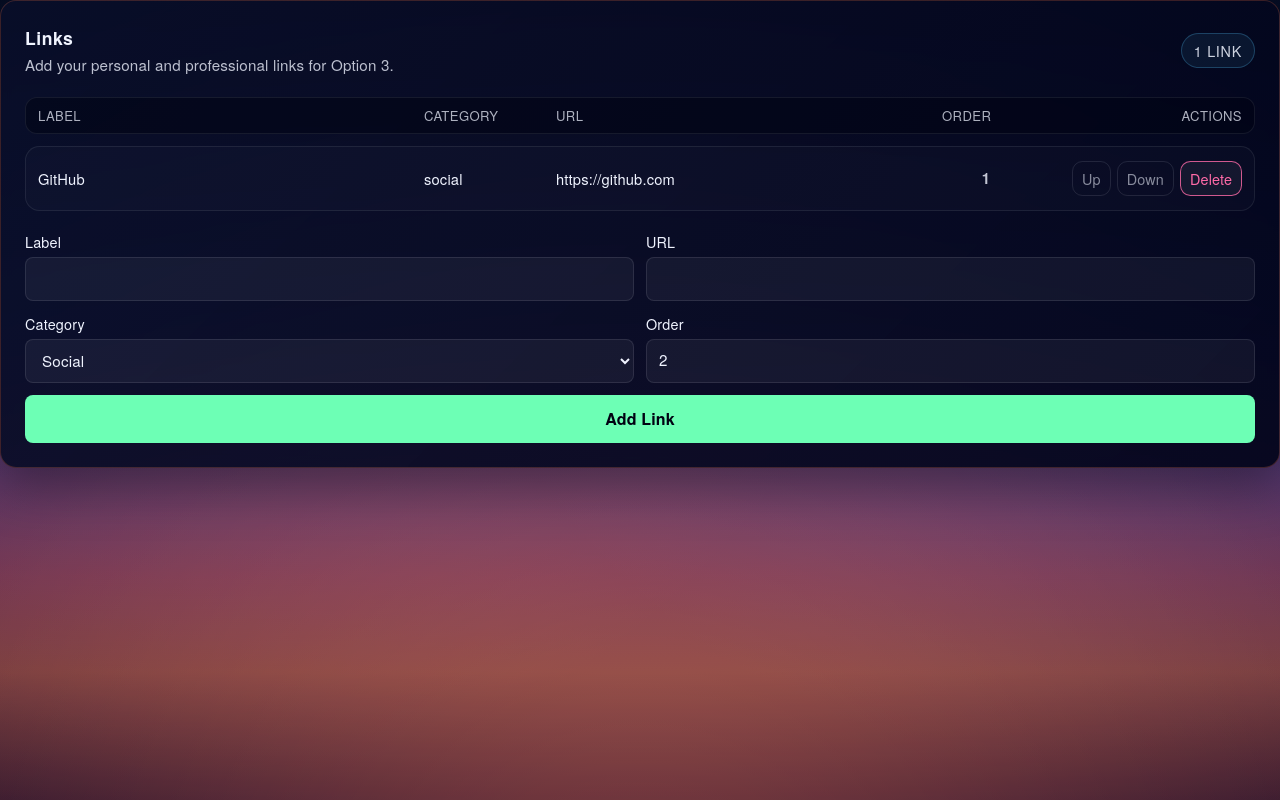
LinksManager › requires label and url
Click the button "Add Link": (640, 419) [25, 395, 1255, 443]
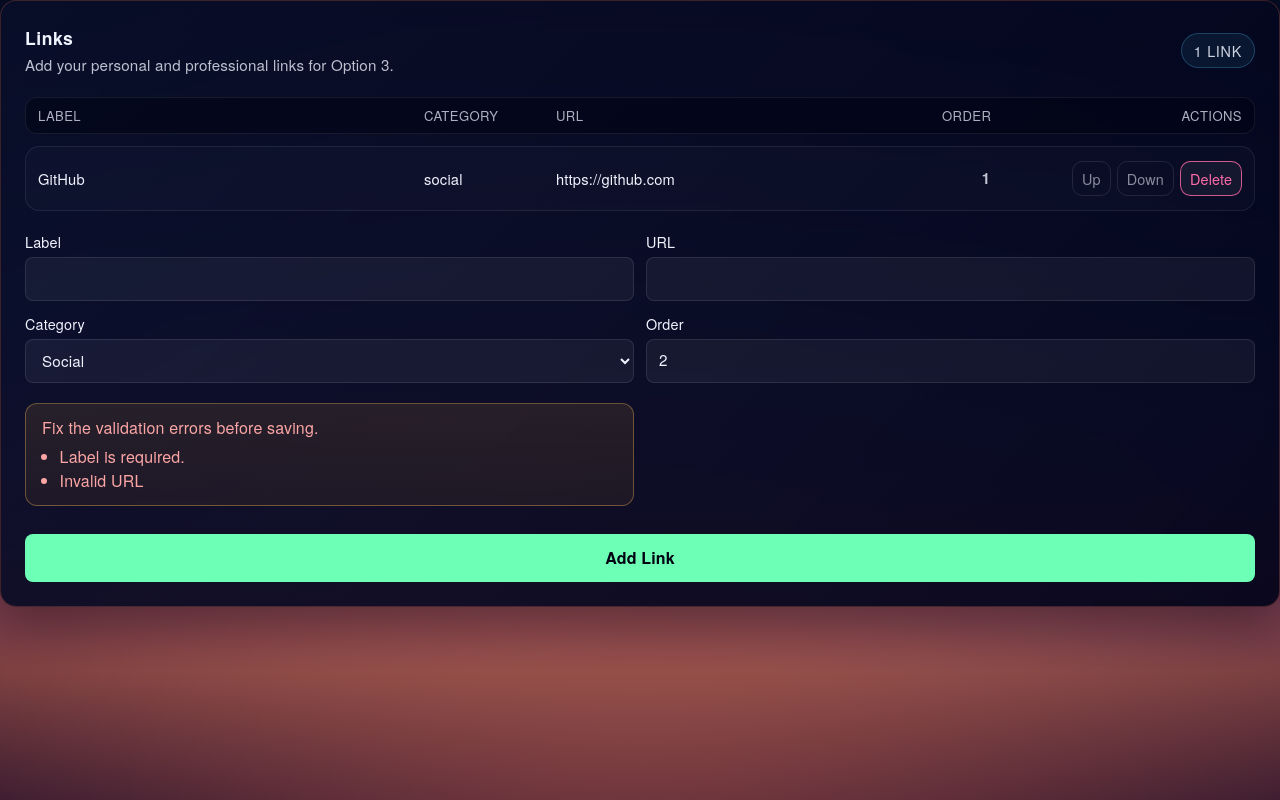
Now the text "Fix the validation errors before saving." is shown, box [42, 416, 319, 439]
Now the list item "Label is required." is shown, box [60, 445, 185, 468]
